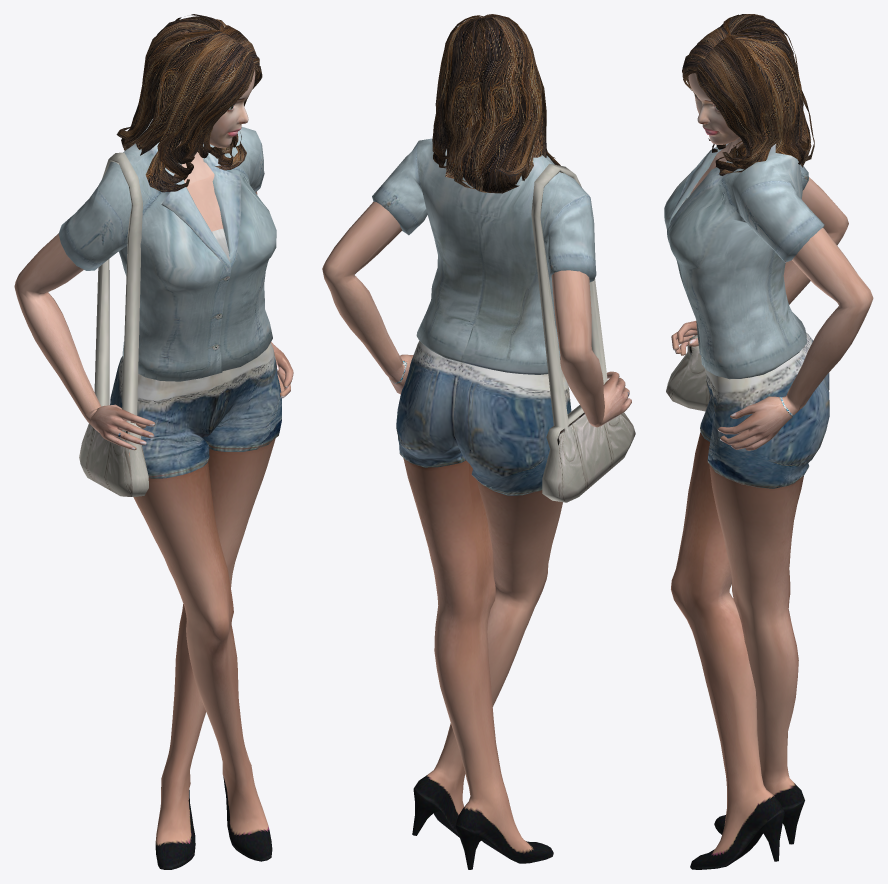
The picture shows the model from 3 angles, left to right: view 1: azimuth 30°, elevation 25°; view 2: azimuth 150°, elevation 25°; view 3: azimuth 270°, elevation 25°; orthographic projection.
Visible parts, largest first — view 1: UA_f2_3.001; view 2: UA_f2_3.001; view 3: UA_f2_3.001.
Part boxes in pixels (x1,y1,x2,y2): UA_f2_3.001: (14,14,293,869); UA_f2_3.001: (322,14,635,869); UA_f2_3.001: (664,14,873,869).
Bounding box in the file's own units: 54.61 × 174 × 39.85.
4 materials, 4 textured.
